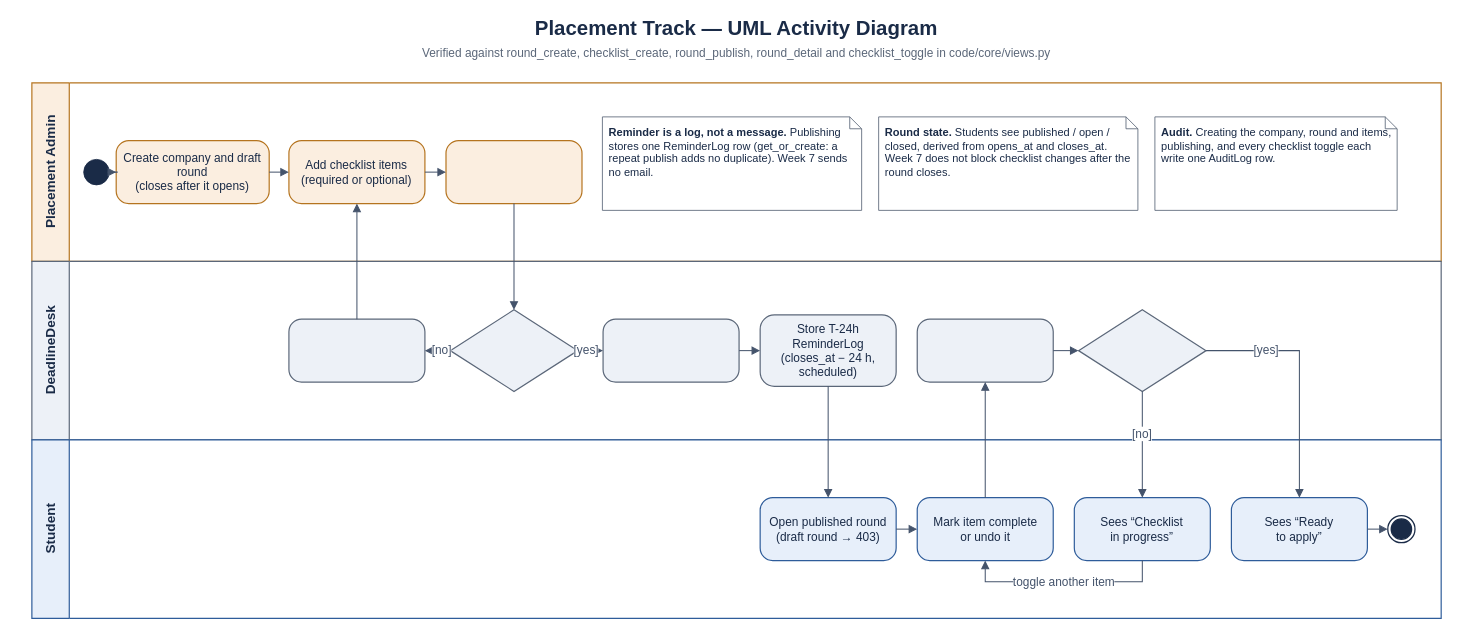
The diagram is 1472 pixels wide and 633 high, and some of its shapes have lost their labels. The shapes that lost their labels are listed below. From the top down, each one's centre as x and y in pixels, then its label:
At (513,172): "Publish round".
At (356,350): "Show error: add a required item".
At (513,350): "At least one required item?".
At (670,350): "Set round status to published".
At (984,350): "Create or delete ChecklistCompletion".
At (1142,350): "Every required item complete?".
